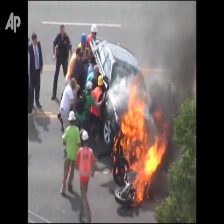fire_h: (120, 69, 167, 205)
fire_l: (112, 137, 118, 151), (124, 164, 127, 172), (115, 167, 118, 174), (113, 155, 115, 162)
